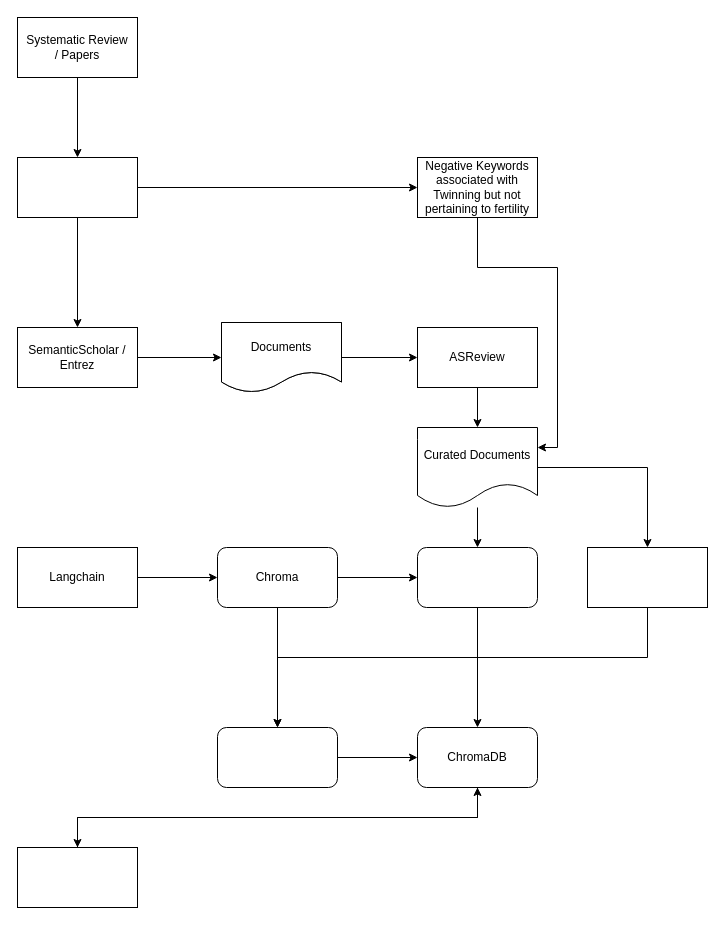
The diagram is 725 pixels wide and 925 high, and some of its shapes have lost their labels. Here are the shapes that lost their labels. From the top down, the centre of each, then its label:
At point 77,187: "Positive Keywords".
At point 477,577: "Chroma OpenAI Embedding Wrapper".
At point 647,577: "Bern2 Annotation".
At point 277,757: "ChromeDB Metadata".
At point 77,877: "ElasticSearch / Semantic Search".
